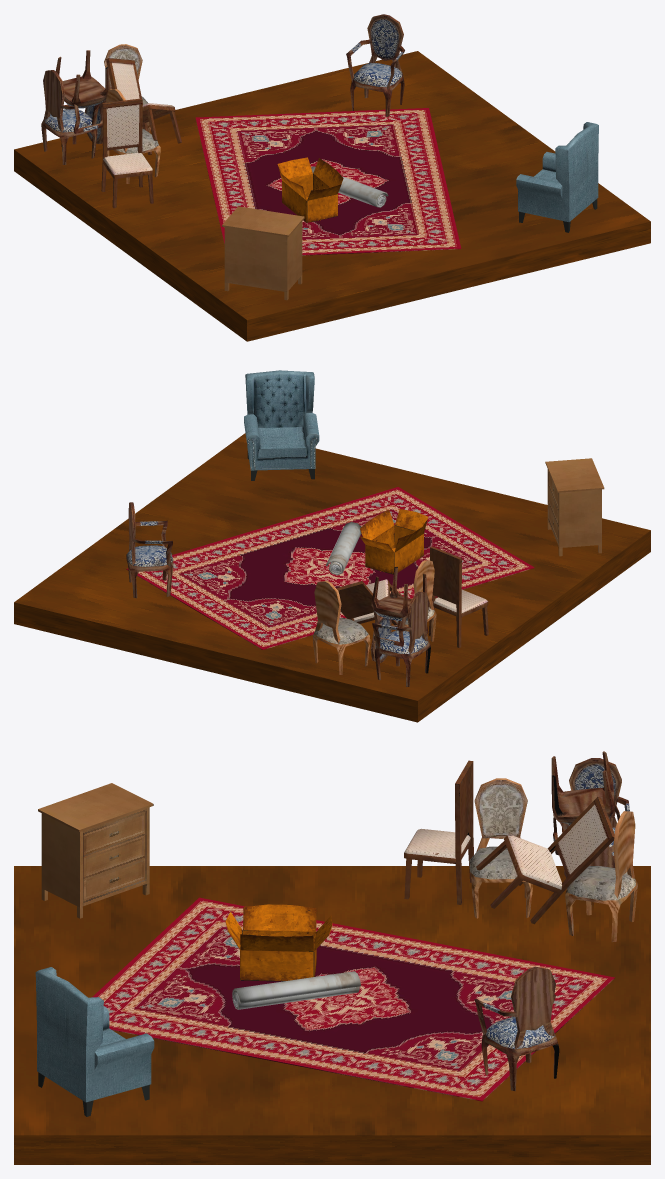
The model's file is lvgrenier.glb.
The picture shows the model from 3 angles, top to bottom: view 1: azimuth 30°, elevation 25°; view 2: azimuth 150°, elevation 25°; view 3: azimuth 270°, elevation 25°; orthographic projection. The views are drawn at different scales.
Parts seen in each view (by area): view 1: sol, Cube, Chest_drawers_01, Armchair_02, Chair_02, Chair.002, Carton petit ouvert, Chair, Chair.001, Chair_02.001, Plane, Chair_01.001 (+1 smaller); view 2: sol, Cube, Armchair_02, Chest_drawers_01, Carton petit ouvert, Chair_02, Chair, Chair_01, Chair.002, Chair.001, Chair_02.001, Plane (+1 smaller); view 3: sol, Cube, Chest_drawers_01, Armchair_02, Carton petit ouvert, Chair_02.001, Chair.002, Chair_01.001, Chair_01, Chair_02, Plane, Chair.001 (+1 smaller).
Part boxes in pixels (box(x1,y1,x2,y2)): sol: box(14, 51, 650, 341); Cube: box(195, 108, 461, 255); Chest_drawers_01: box(222, 206, 304, 300); Armchair_02: box(516, 122, 598, 232); Chair_02: box(101, 98, 153, 208); Chair.002: box(346, 14, 404, 116); Carton petit ouvert: box(277, 157, 343, 222); Chair: box(41, 70, 99, 164); Chair.001: box(56, 50, 109, 143); Chair_02.001: box(106, 58, 181, 154); Plane: box(311, 166, 388, 207); Chair_01.001: box(106, 89, 160, 183); sol: box(14, 433, 650, 722); Cube: box(126, 487, 534, 649); Armchair_02: box(244, 370, 319, 480); Chest_drawers_01: box(545, 458, 604, 556); Carton petit ouvert: box(359, 509, 428, 574); Chair_02: box(428, 546, 488, 647); Chair: box(372, 591, 430, 686); Chair_01: box(313, 580, 370, 674); Chair.002: box(126, 502, 173, 598); Chair.001: box(370, 567, 428, 662); Chair_02.001: box(336, 579, 402, 625); Plane: box(325, 522, 361, 575); sol: box(14, 866, 650, 1164); Cube: box(92, 897, 614, 1101); Chest_drawers_01: box(38, 783, 153, 918); Armchair_02: box(35, 967, 154, 1116); Carton petit ouvert: box(225, 904, 332, 981); Chair_02.001: box(476, 796, 614, 924); Chair.002: box(474, 966, 559, 1091); Chair_01.001: box(469, 778, 532, 918); Chair_01: box(565, 811, 637, 942); Chair_02: box(404, 760, 473, 904); Plane: box(232, 971, 360, 1009); Chair.001: box(551, 751, 620, 877).
Bounding box in the file's own units: 6.56 × 1.85 × 6.56.
13 materials, 13 textured.
